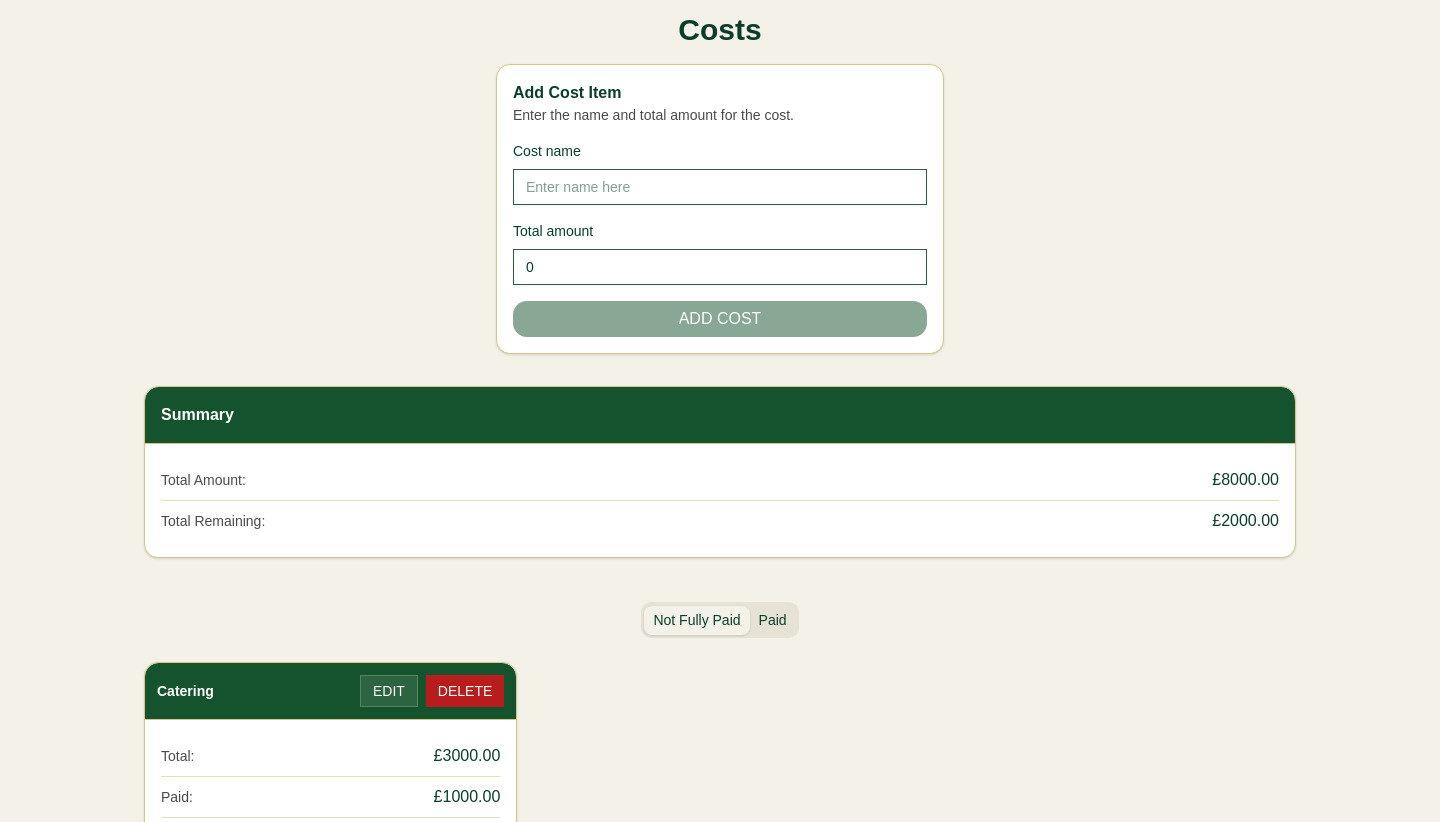
Test case: Costs page can switch to Paid tab
Check: the heading "Catering" is shown, box 157,681 -> 214,701
Click the tab "Paid".
click(773, 620)  # box 750,606 -> 796,634
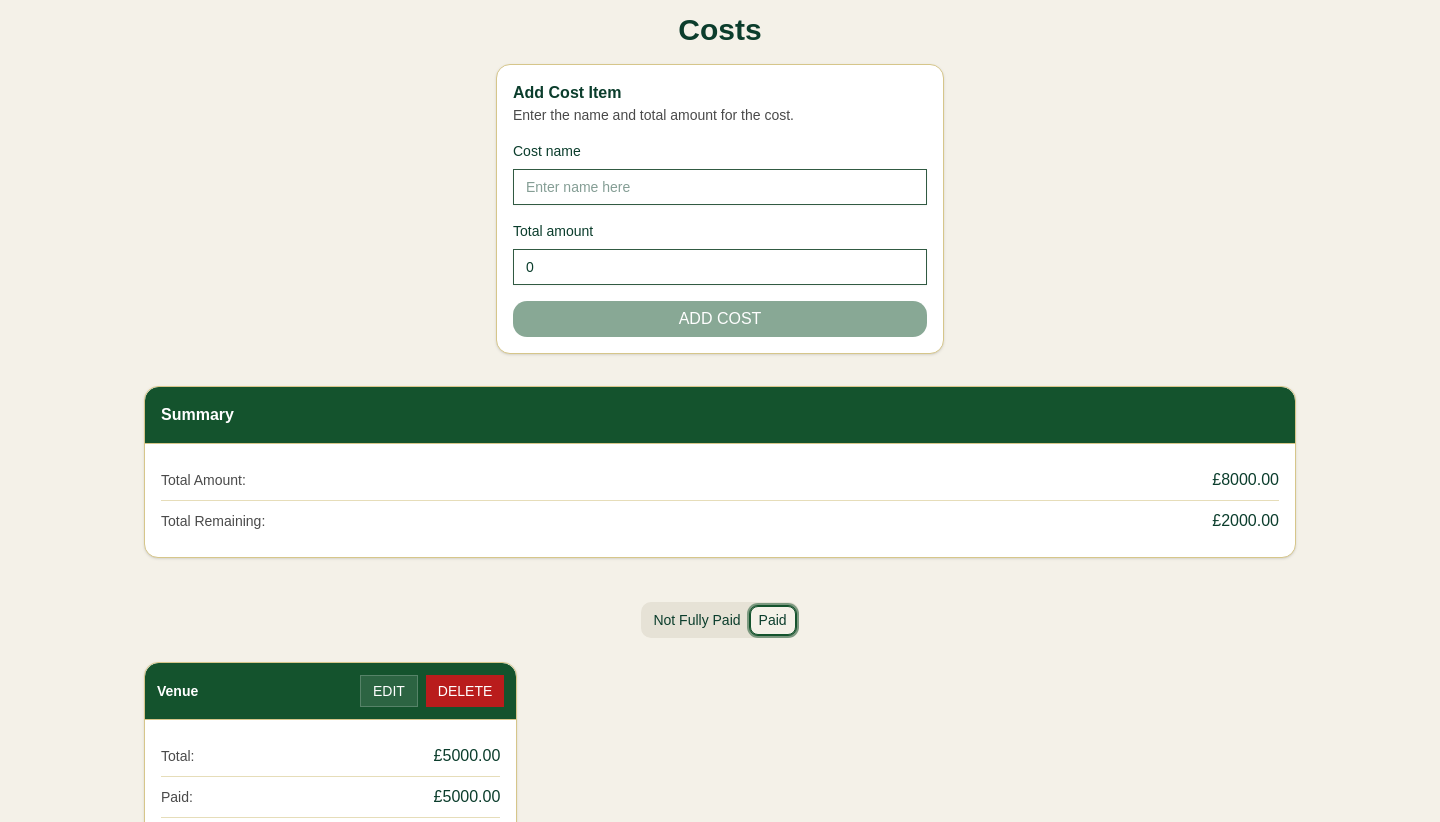
Check: the heading "Venue" is shown, box 157,681 -> 198,701
Check: the heading "Catering" is gone
